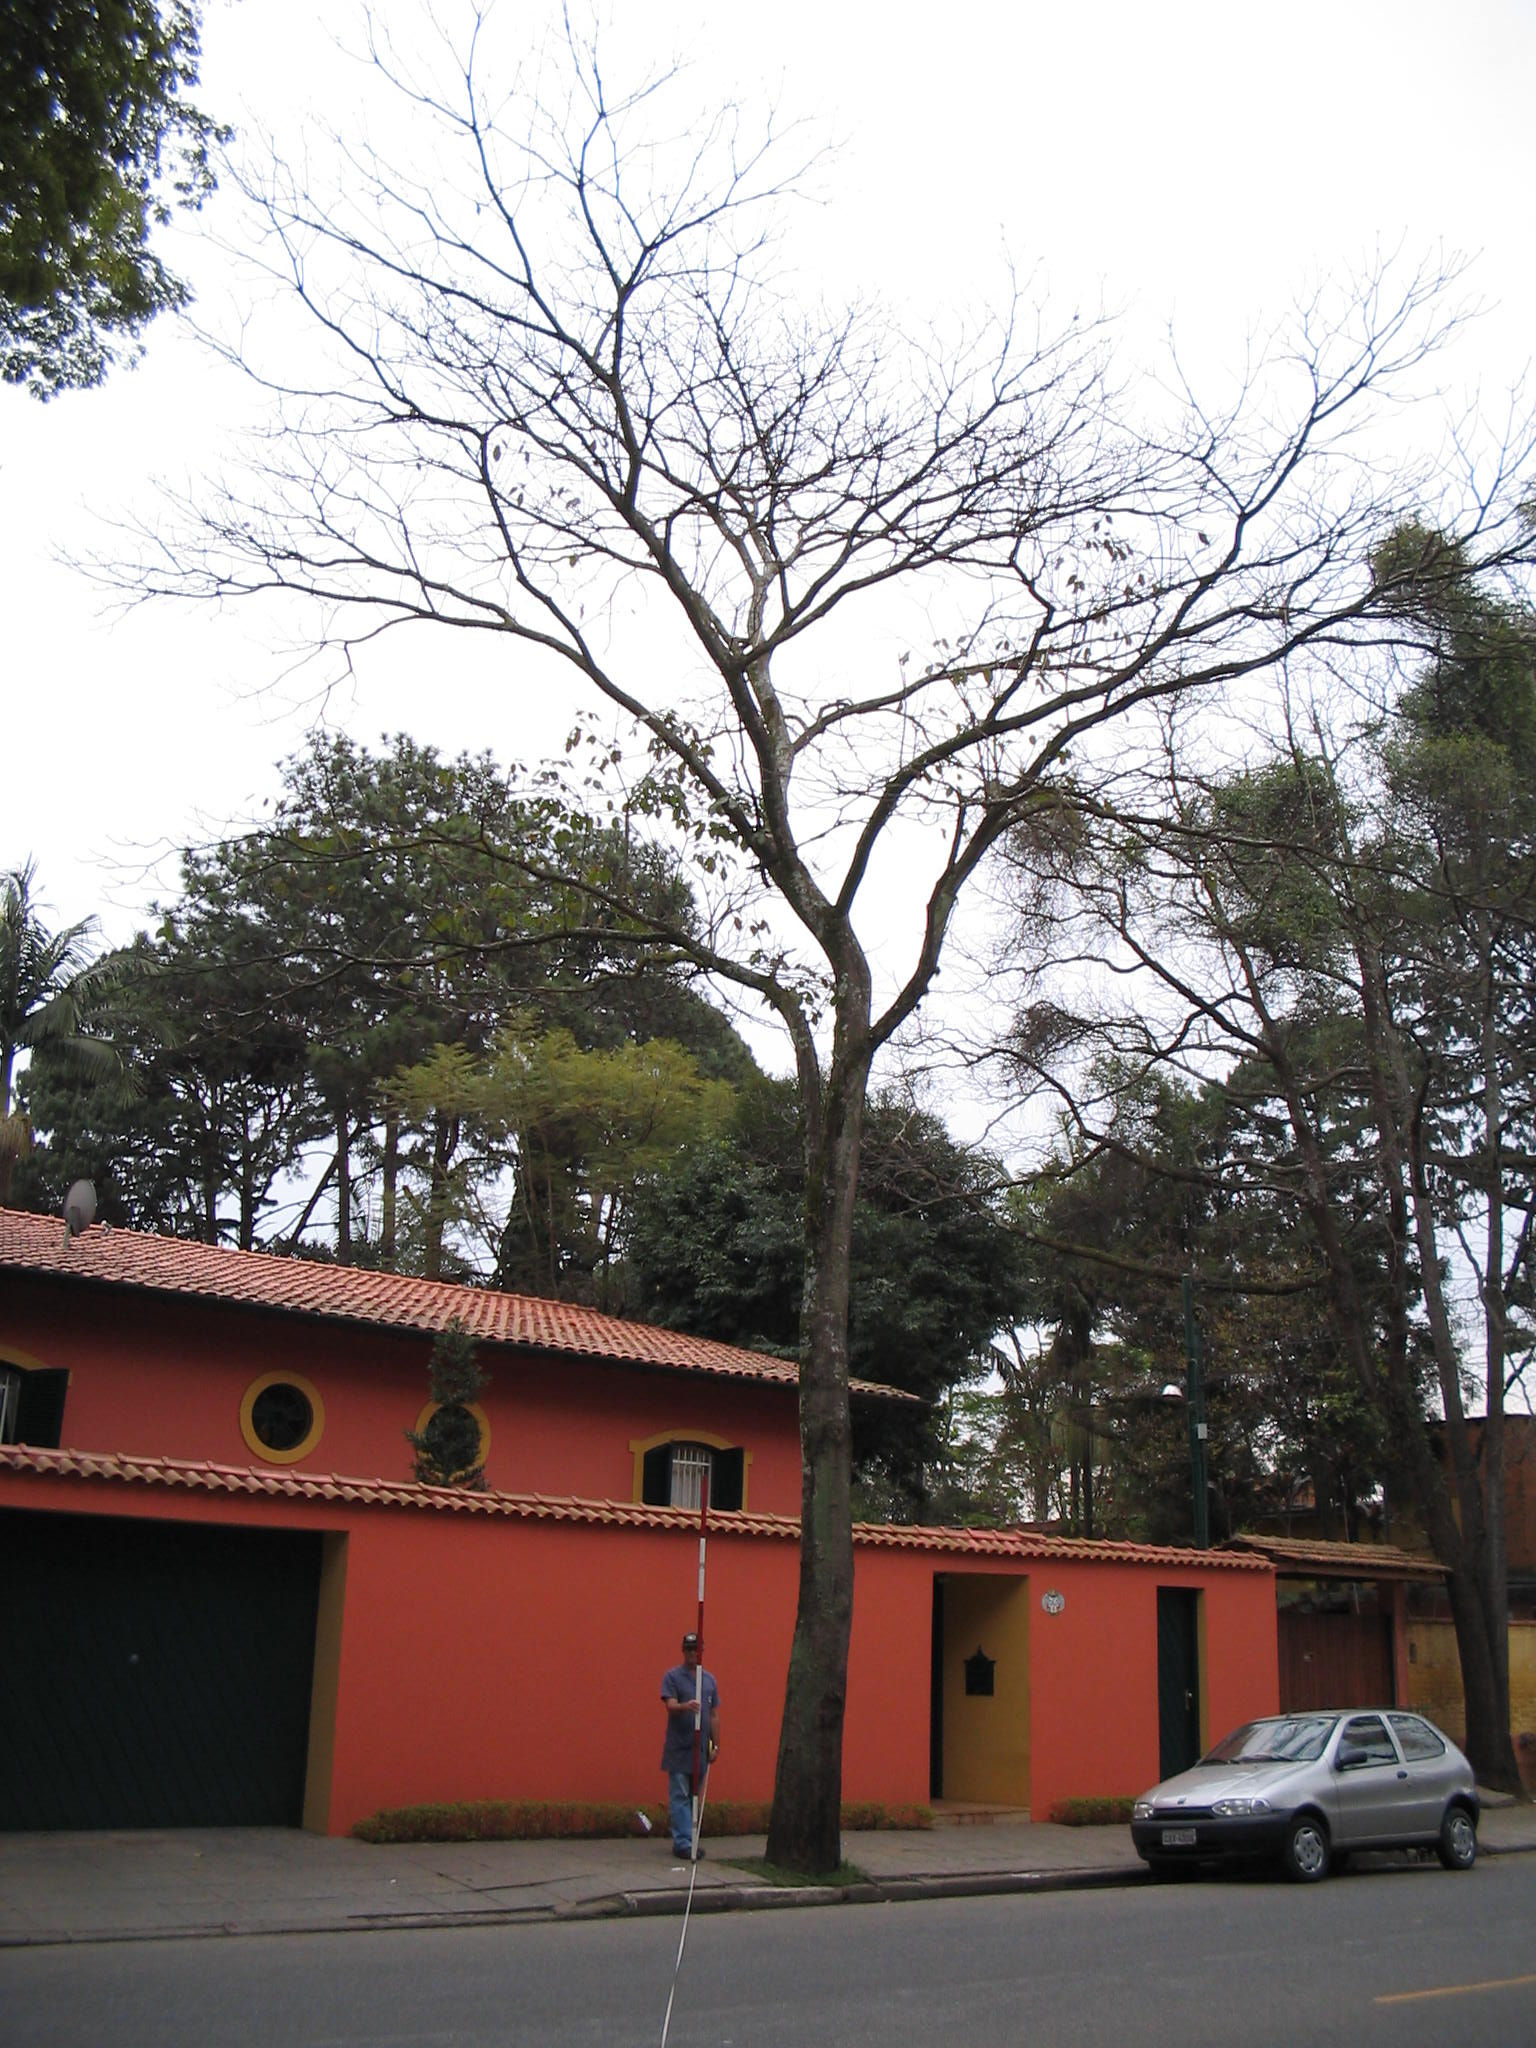stem: (731, 1168, 949, 1867)
stick: (670, 1476, 733, 1864)
tree: (52, 2, 1536, 1875), (973, 624, 1536, 1796)
